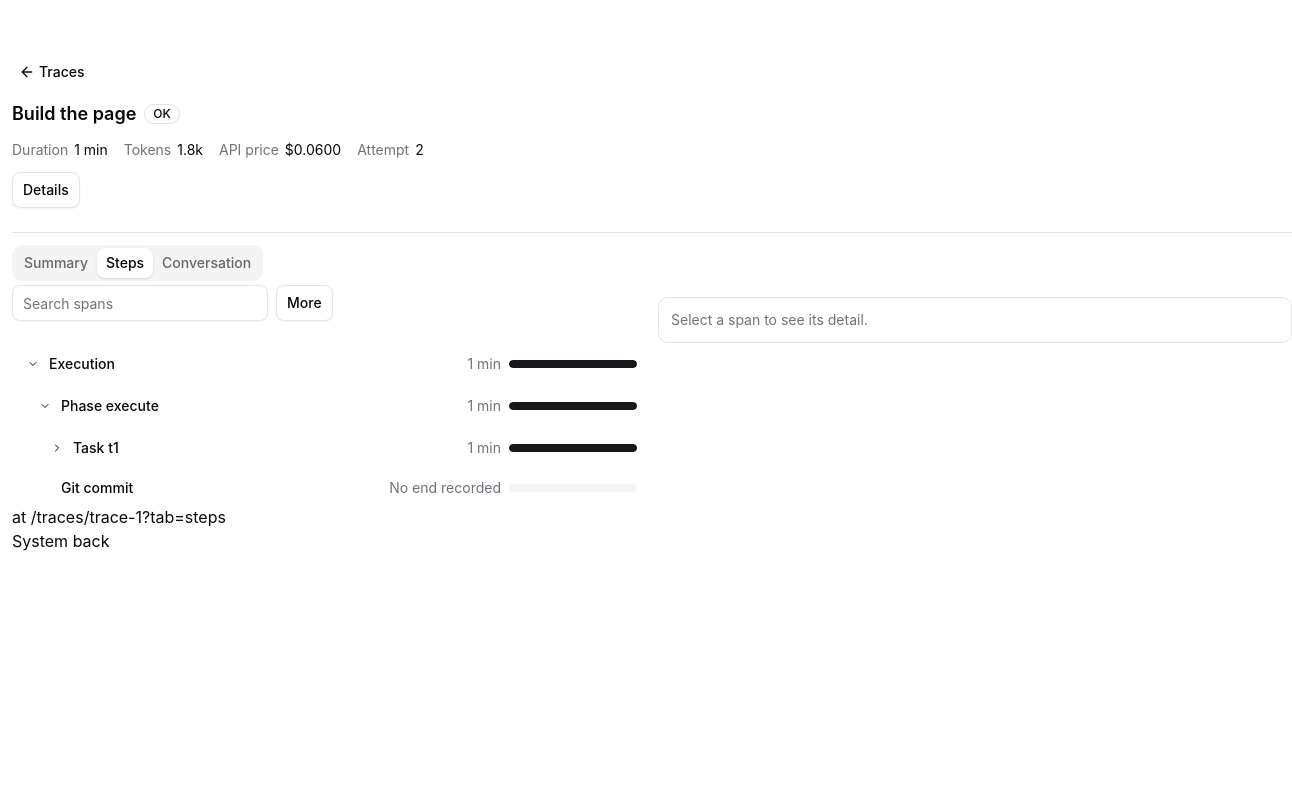
TraceScreen header › shows every other fact behind Details
Expected: the text "Duration" is shown, [12,140,68,160]
Click the button "Details". click: (46, 190)
box: [12,172,80,208]
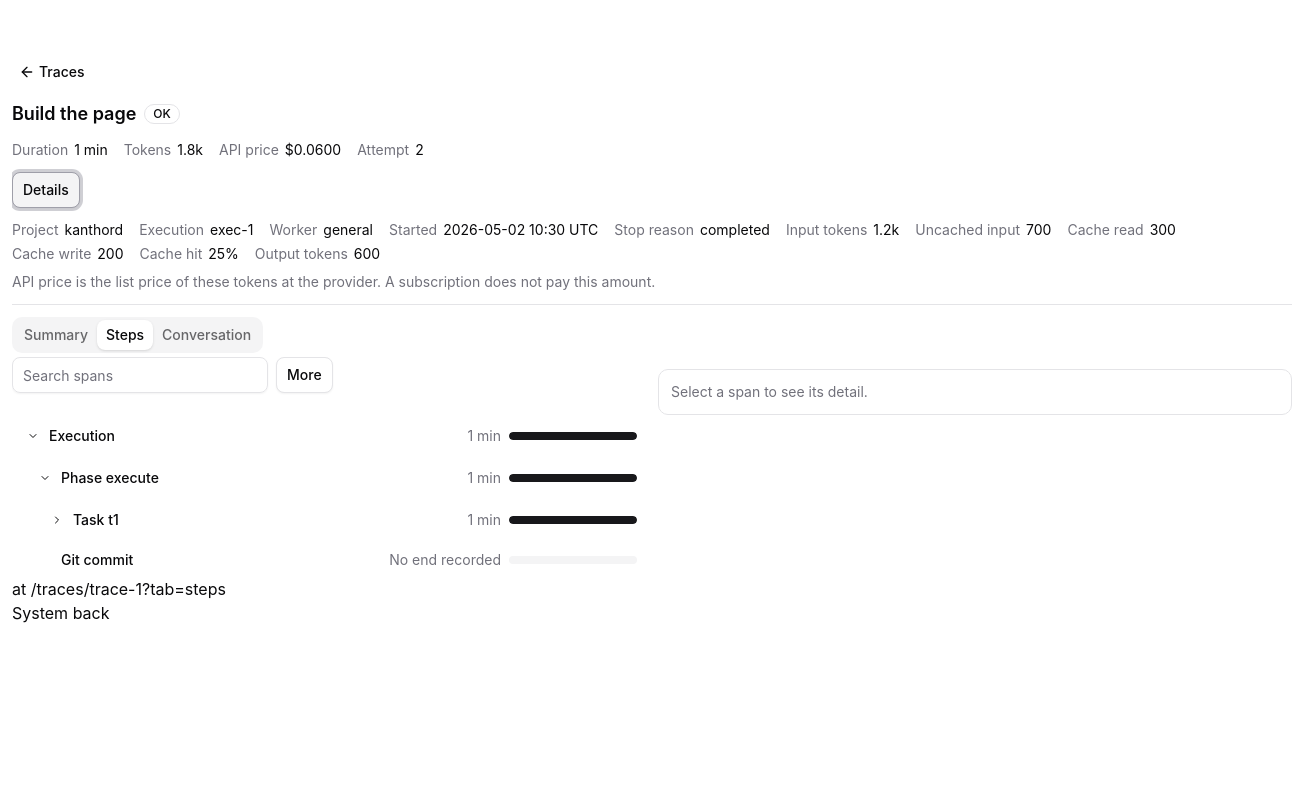
Now the text "kanthord" is shown, box [64,220,123,240]
Now the text "exec-1" is shown, box [210,220,254,240]
Now the text "general" is shown, box [323,220,373,240]
